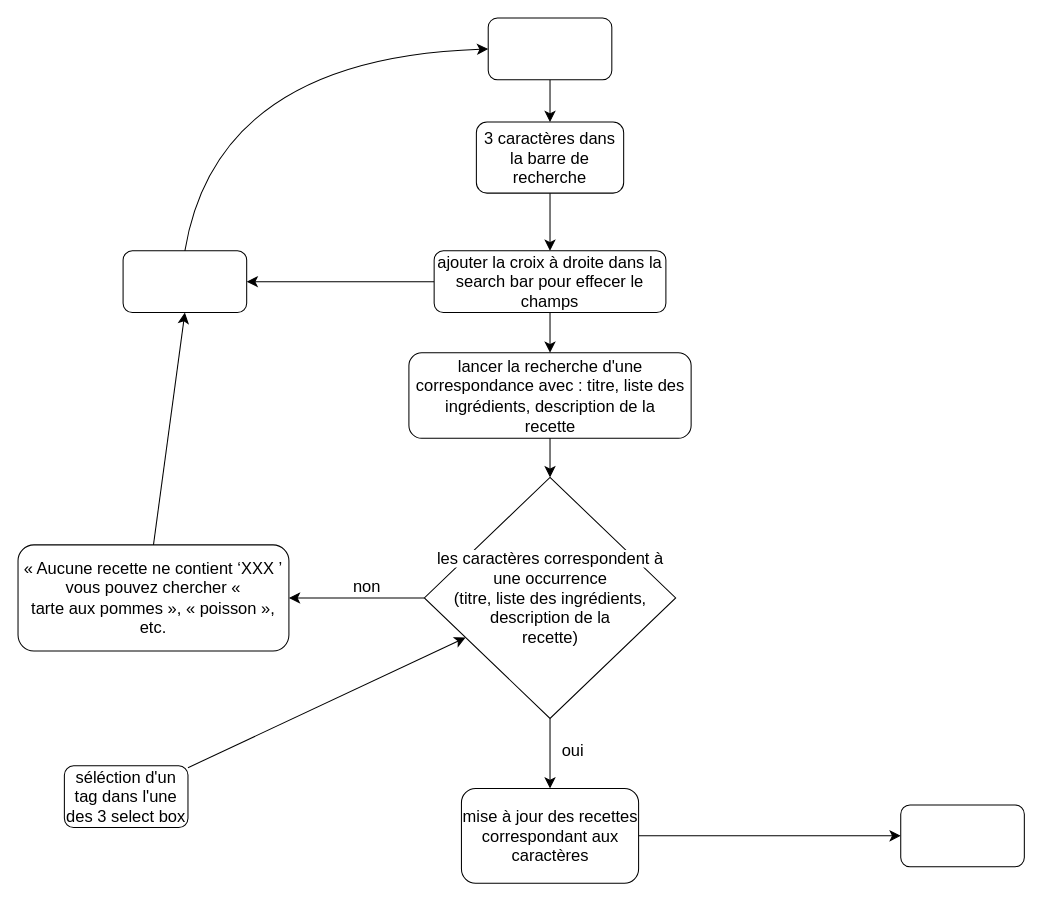
Some shapes in this 1042 by 901 pixel diagram are drawn without their labels. Here are the shapes that lost their labels. From the top down, the centre of each, then its label:
(549,48): barre de recherche vide
(184,281): appui sur la croix d'effecement
(962,835): mise à jour des 3 select box
